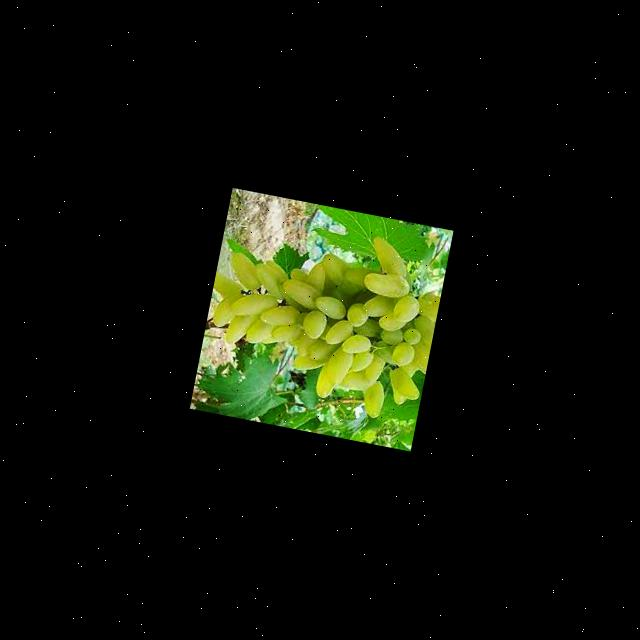grape: (194, 208, 448, 426)
